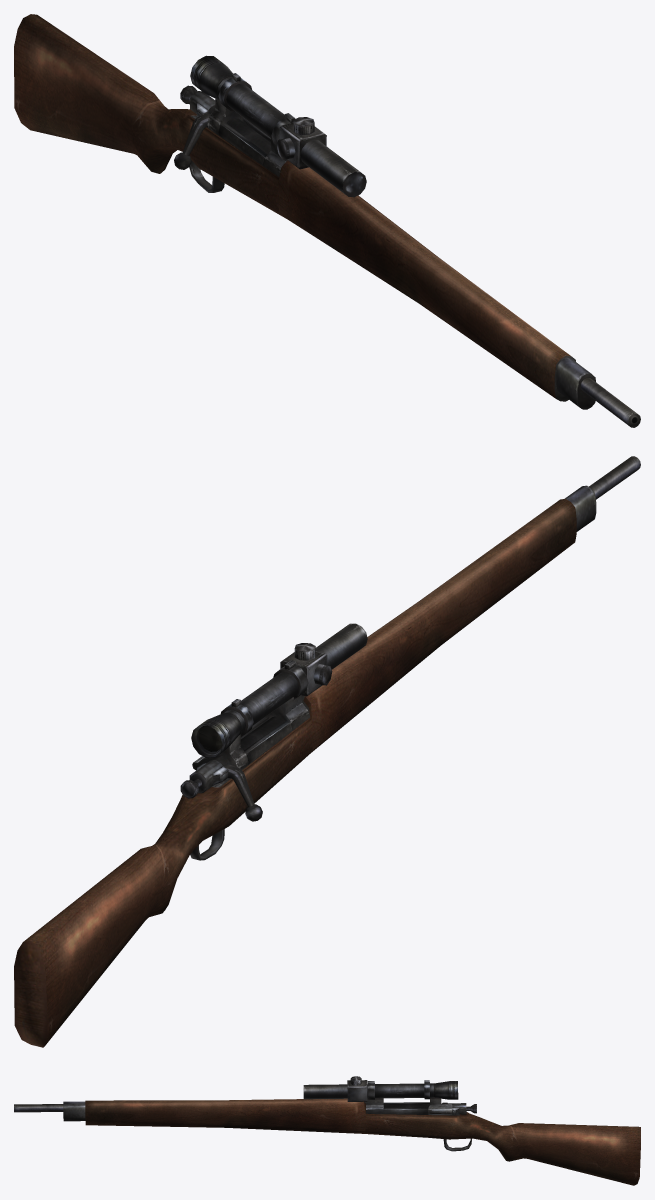
Rendered from rifle_0ed9cef4.glb.
The picture shows the model from 3 angles, top to bottom: view 1: azimuth 30°, elevation 25°; view 2: azimuth 150°, elevation 25°; view 3: azimuth 270°, elevation 25°; orthographic projection. The views are drawn at different scales.
Parts seen in each view (by area): view 1: Object_34, Object_10, springfield.obj_0, Object_36, Object_38, Object_8, Object_6; view 2: Object_34, Object_10, springfield.obj_0, Object_36, Object_38; view 3: Object_34, Object_10, springfield.obj_0, Object_36, Object_38, Object_8, Object_6, Object_12.
Part boxes in pixels (x1=…): Object_34: x1=14, y1=14, x2=575, y2=401; Object_10: x1=190, y1=55, x2=360, y2=194; springfield.obj_0: x1=207, y1=98, x2=287, y2=176; Object_36: x1=556, y1=357, x2=595, y2=409; Object_38: x1=580, y1=378, x2=640, y2=427; Object_8: x1=279, y1=122, x2=326, y2=169; Object_6: x1=207, y1=105, x2=270, y2=154; Object_34: x1=14, y1=498, x2=576, y2=1047; Object_10: x1=191, y1=623, x2=367, y2=757; springfield.obj_0: x1=192, y1=695, x2=309, y2=770; Object_36: x1=564, y1=485, x2=596, y2=531; Object_38: x1=589, y1=456, x2=640, y2=499; Object_34: x1=85, y1=1098, x2=640, y2=1185; Object_10: x1=303, y1=1081, x2=458, y2=1099; springfield.obj_0: x1=364, y1=1097, x2=452, y2=1115; Object_36: x1=63, y1=1101, x2=85, y2=1121; Object_38: x1=14, y1=1104, x2=63, y2=1112; Object_8: x1=347, y1=1080, x2=367, y2=1101; Object_6: x1=383, y1=1103, x2=447, y2=1107; Object_12: x1=448, y1=1103, x2=466, y2=1114.
Size of the model in its own units: 2.48 by 7.68 by 40.8.
Materials: 4 (4 with a texture image).
